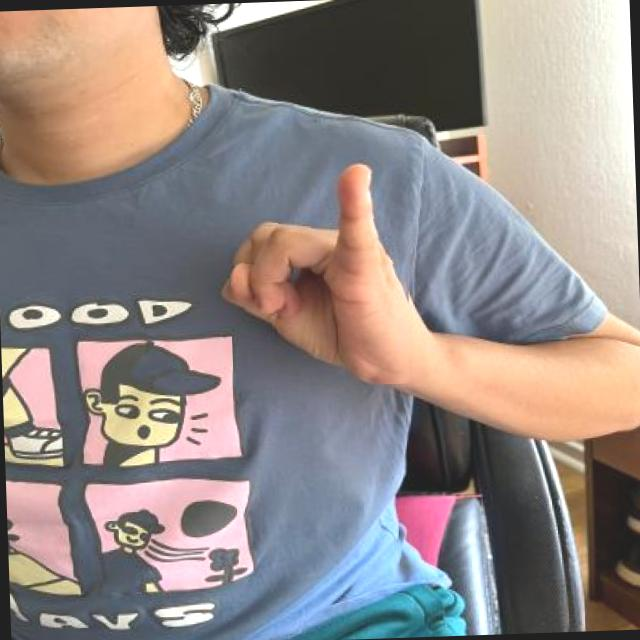I: (225, 147, 414, 390)
